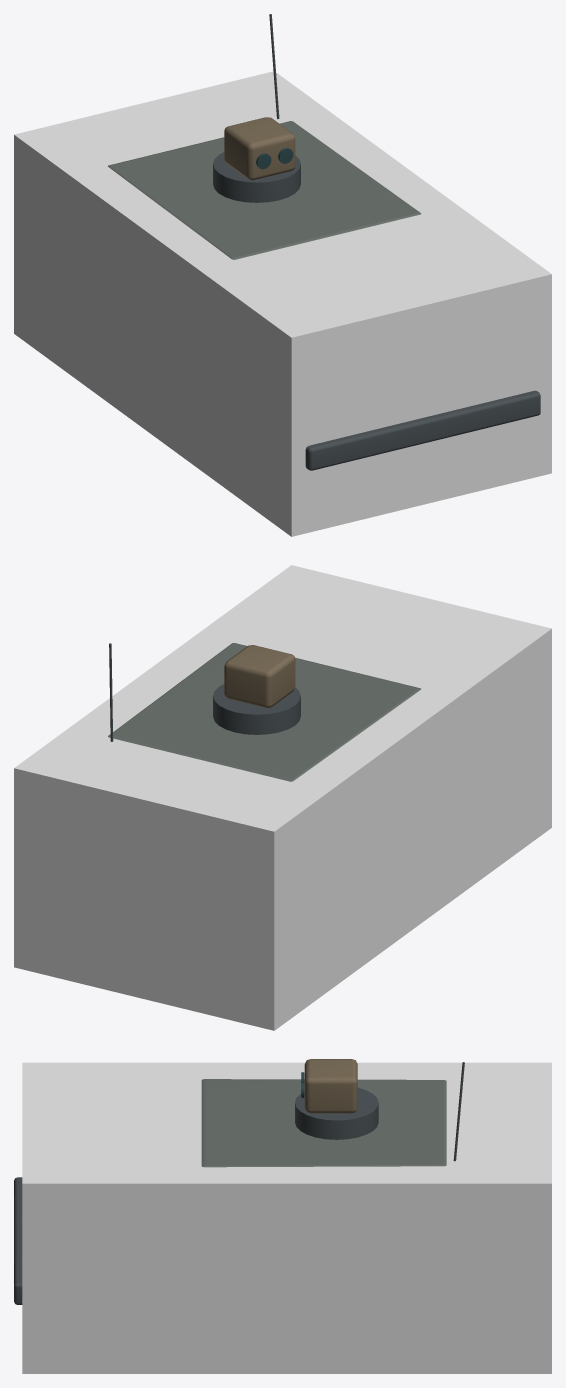
Rendered from m2_patrol_vehicle.glb.
3 views of the same model, one above another, from view 1: azimuth 30°, elevation 25°; view 2: azimuth 150°, elevation 25°; view 3: azimuth 270°, elevation 25° (orthographic). The views are drawn at different scales.
Parts seen in each view (by area): view 1: COL_m2_patrol_vehicle, m2_patrol_vehicle_nc7_panel, m2_patrol_vehicle_nc7_alloy, m2_patrol_vehicle_nc7_coating; view 2: COL_m2_patrol_vehicle, m2_patrol_vehicle_nc7_panel, m2_patrol_vehicle_nc7_coating, m2_patrol_vehicle_nc7_alloy; view 3: COL_m2_patrol_vehicle, m2_patrol_vehicle_nc7_panel, m2_patrol_vehicle_nc7_alloy, m2_patrol_vehicle_nc7_coating.
Boxes of the visible parts, x1,y1,x2,y2 form: COL_m2_patrol_vehicle: (14,71,551,536); m2_patrol_vehicle_nc7_panel: (108,121,421,259); m2_patrol_vehicle_nc7_alloy: (213,14,540,470); m2_patrol_vehicle_nc7_coating: (224,117,295,180); COL_m2_patrol_vehicle: (14,565,551,1030); m2_patrol_vehicle_nc7_panel: (108,643,420,781); m2_patrol_vehicle_nc7_coating: (224,645,295,707); m2_patrol_vehicle_nc7_alloy: (109,643,300,741); COL_m2_patrol_vehicle: (22,1062,551,1373); m2_patrol_vehicle_nc7_panel: (201,1079,446,1167); m2_patrol_vehicle_nc7_alloy: (14,1062,464,1304); m2_patrol_vehicle_nc7_coating: (304,1059,357,1113).
Bounding box in the file's own units: 2.6 × 2.89 × 4.88.
